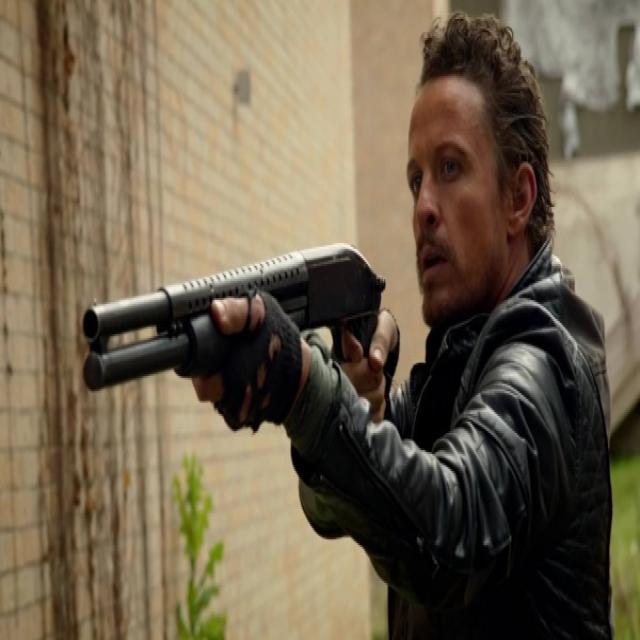rifle: (81, 230, 387, 406)
